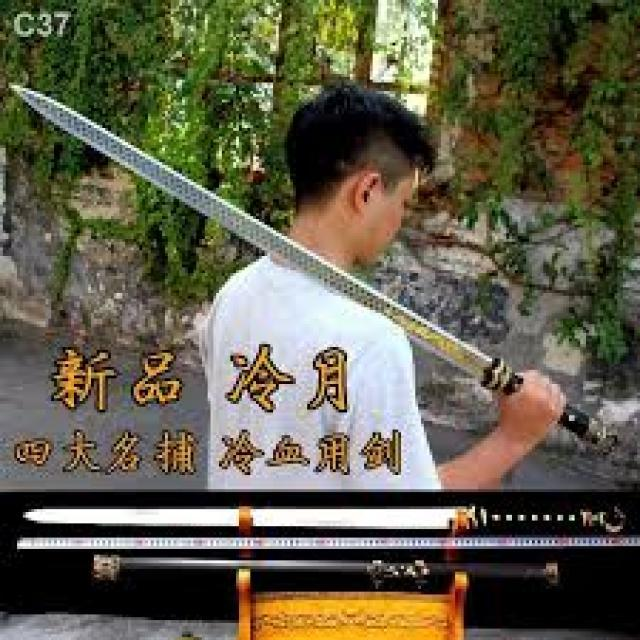long sword: (12, 80, 600, 442), (22, 506, 622, 532)
